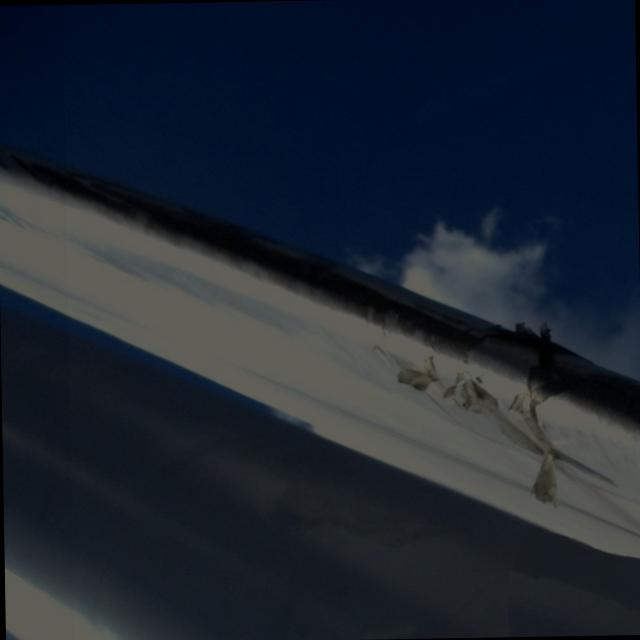crack: (380, 304, 610, 509)
